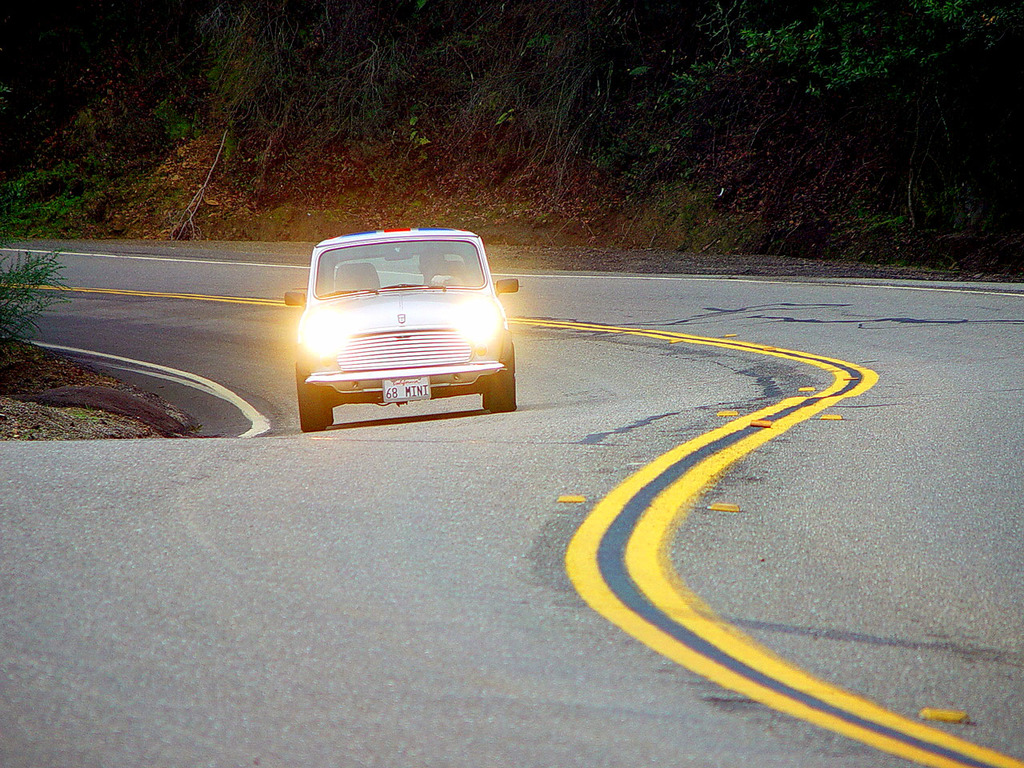mobil: (293, 224, 528, 418)
